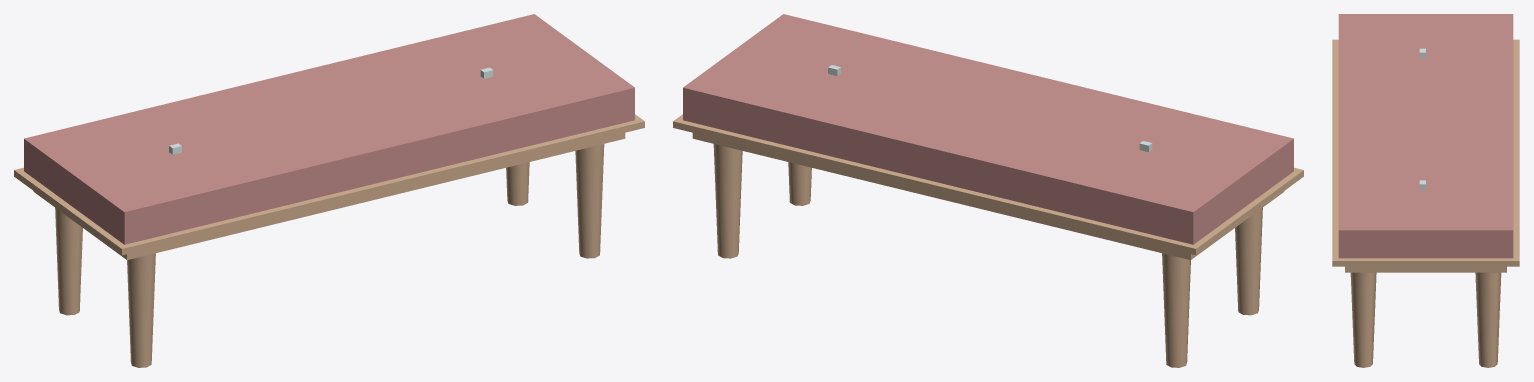
File: benchPiano.glb
3 views of the same model, side by side, from view 1: azimuth 30°, elevation 25°; view 2: azimuth 150°, elevation 25°; view 3: azimuth 270°, elevation 25° (orthographic). The views are drawn at different scales.
Parts seen in each view (by area): view 1: benchPiano; view 2: benchPiano; view 3: benchPiano.
Boxes of the visible parts, x1,y1,x2,y2 form: benchPiano: (14, 14, 644, 367); benchPiano: (673, 14, 1303, 367); benchPiano: (1332, 14, 1519, 367).
Bounding box in the file's own units: 0.84 × 0.27 × 0.3.
